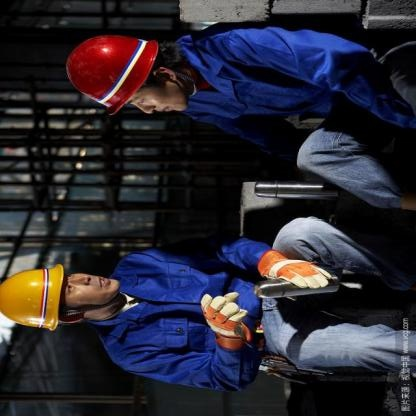red: (58, 32, 162, 126)
yellow: (0, 260, 70, 344)
